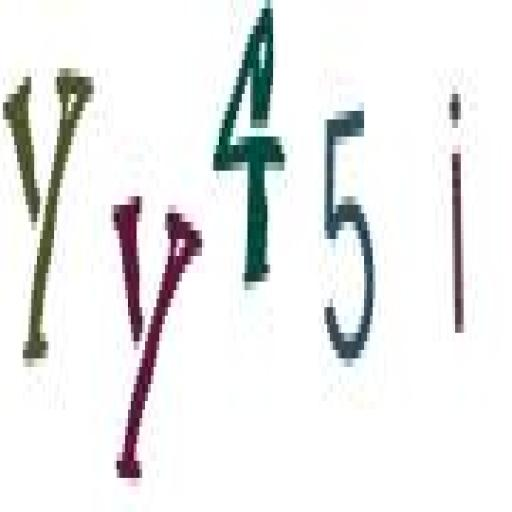4: (205, 0, 293, 299)
5: (319, 84, 388, 379)
Y: (101, 182, 204, 504), (0, 46, 96, 386)
i: (440, 75, 470, 363)
